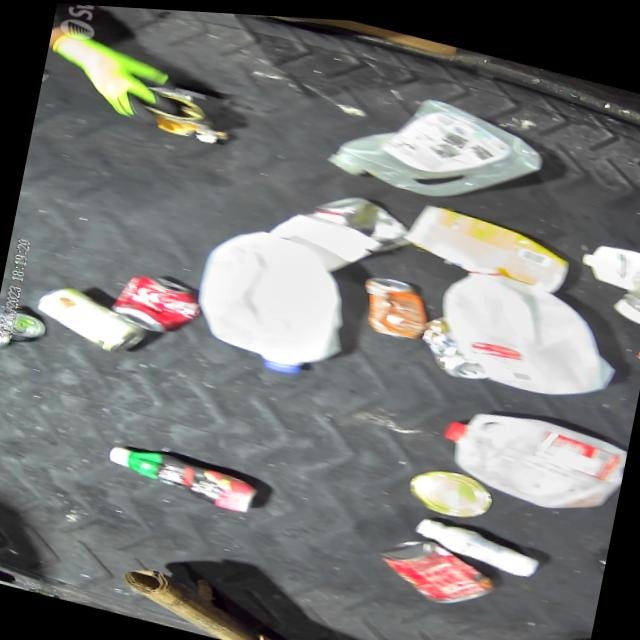can: (366, 523, 501, 613), (30, 277, 152, 359), (308, 181, 418, 255), (106, 263, 205, 341), (140, 81, 234, 145), (353, 266, 432, 340), (402, 456, 494, 519), (416, 307, 496, 379), (0, 302, 47, 359)
milk_jug: (322, 70, 550, 217), (426, 247, 632, 406), (185, 214, 362, 384), (431, 387, 630, 520)
